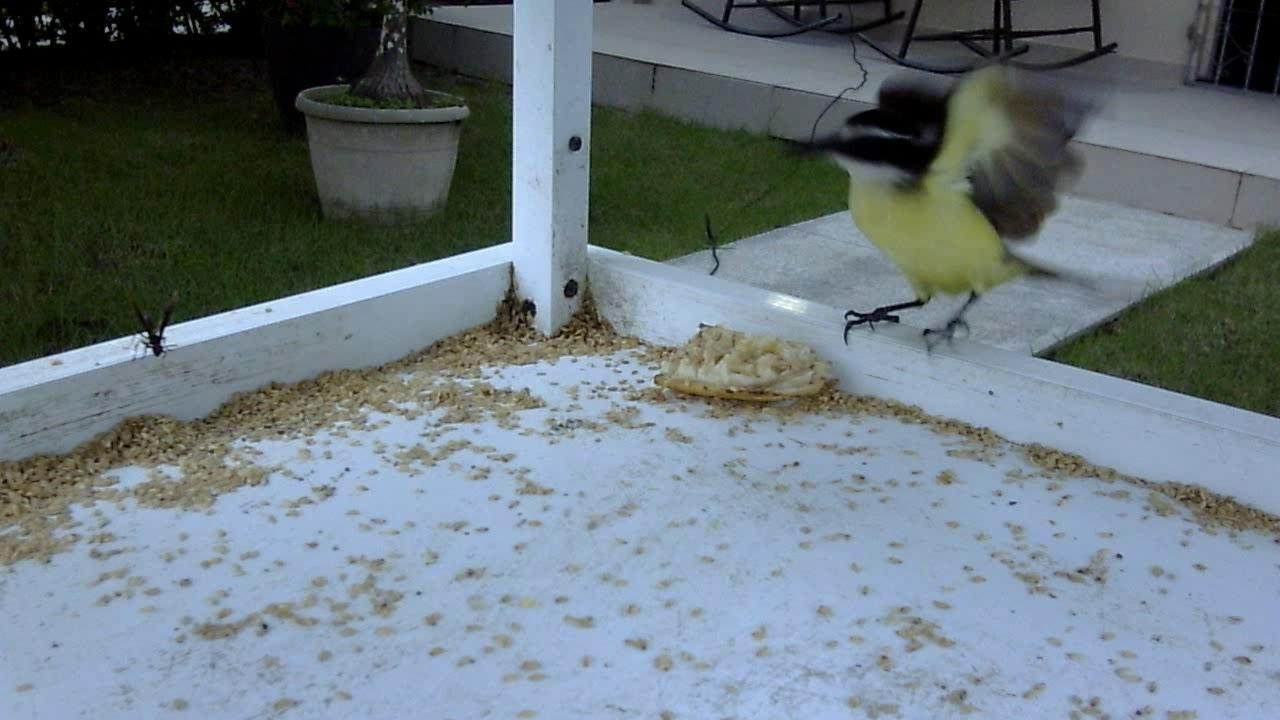bem_te_vi: (750, 45, 1127, 371)
